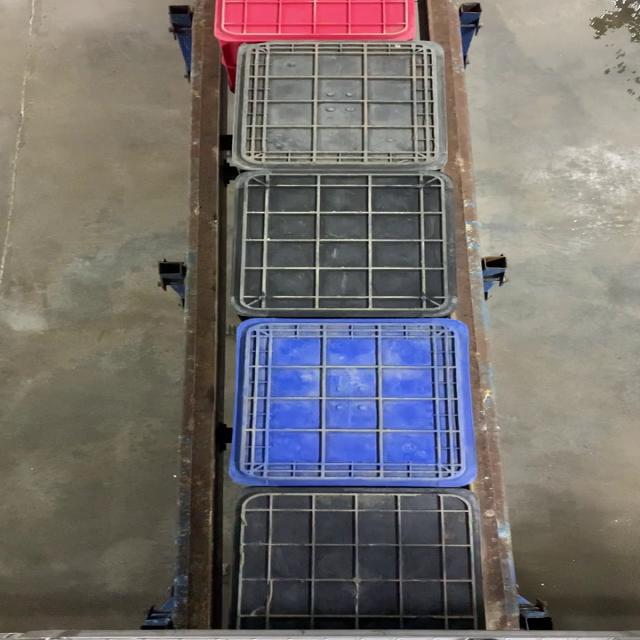Box: (231, 320, 476, 488), (228, 168, 464, 320)
Damaged_box: (229, 39, 450, 170)
